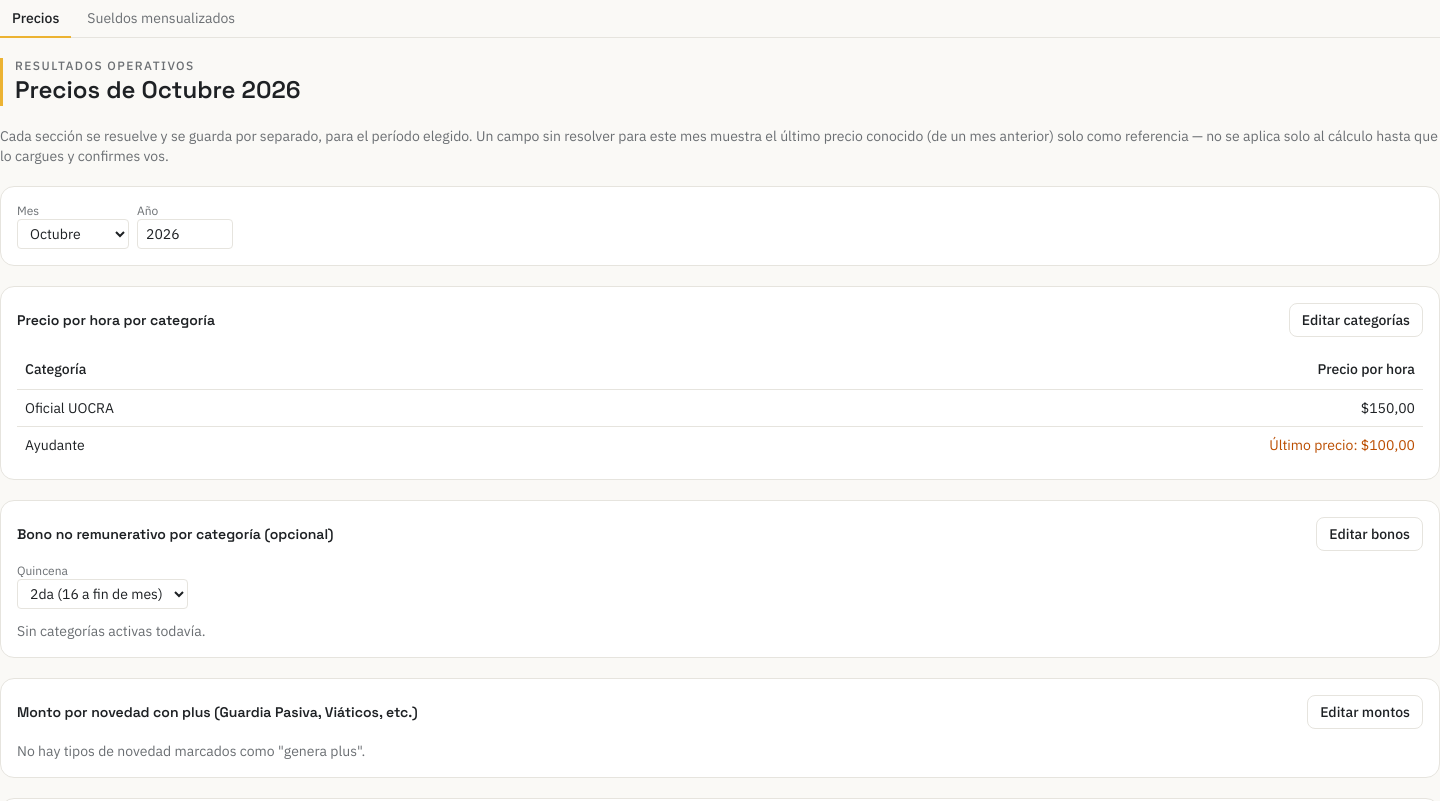
TarifasPage — Precios (ADR-018, secciones independientes) › "Aplicar a todas" el % calcula sobre el último precio, no sobre el input (que puede estar vacío)
Expected: the text "$150,00" is shown, x1=570 y1=389 x2=1423 y2=426
Click the button "Editar categorías" at (1356, 320), box x1=1289 y1=303 x2=1423 y2=337
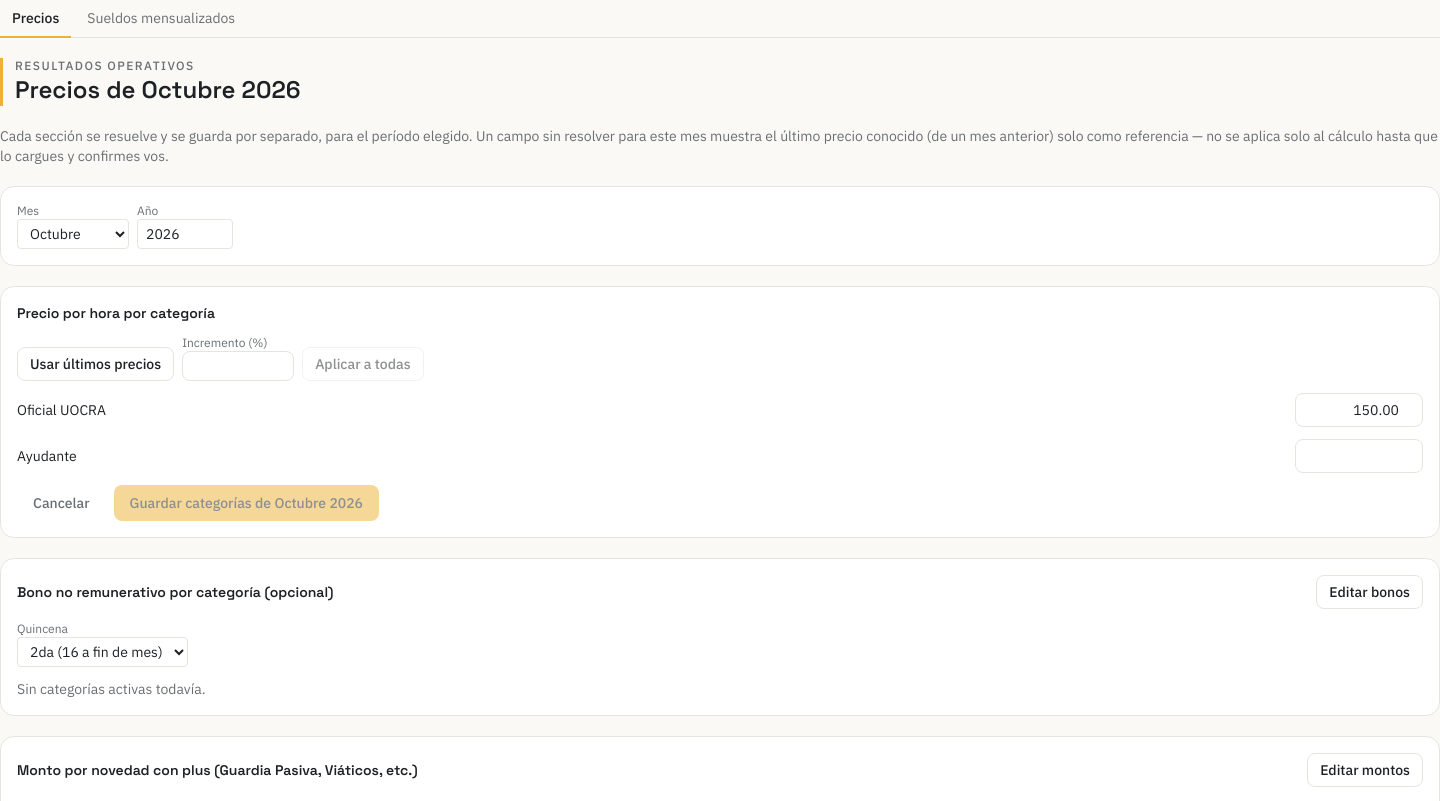
Expected: the number field labelled "Ayudante" is not empty, x1=1295 y1=439 x2=1423 y2=473
Type "10" into the number field named "porcentaje de incremento" at (238, 366), box x1=182 y1=351 x2=294 y2=381
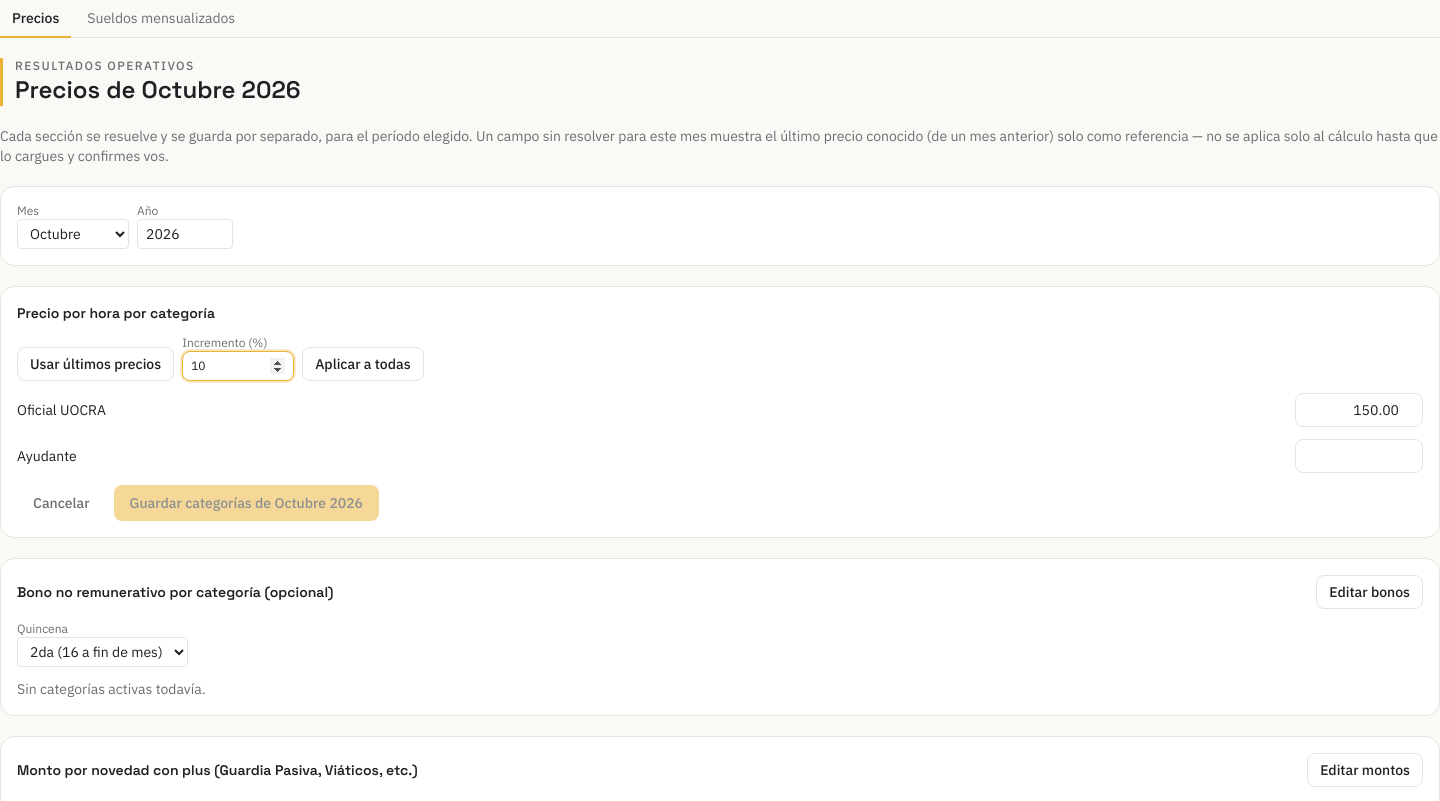
Click the button "Aplicar a todas" at (363, 364), box x1=302 y1=347 x2=424 y2=381
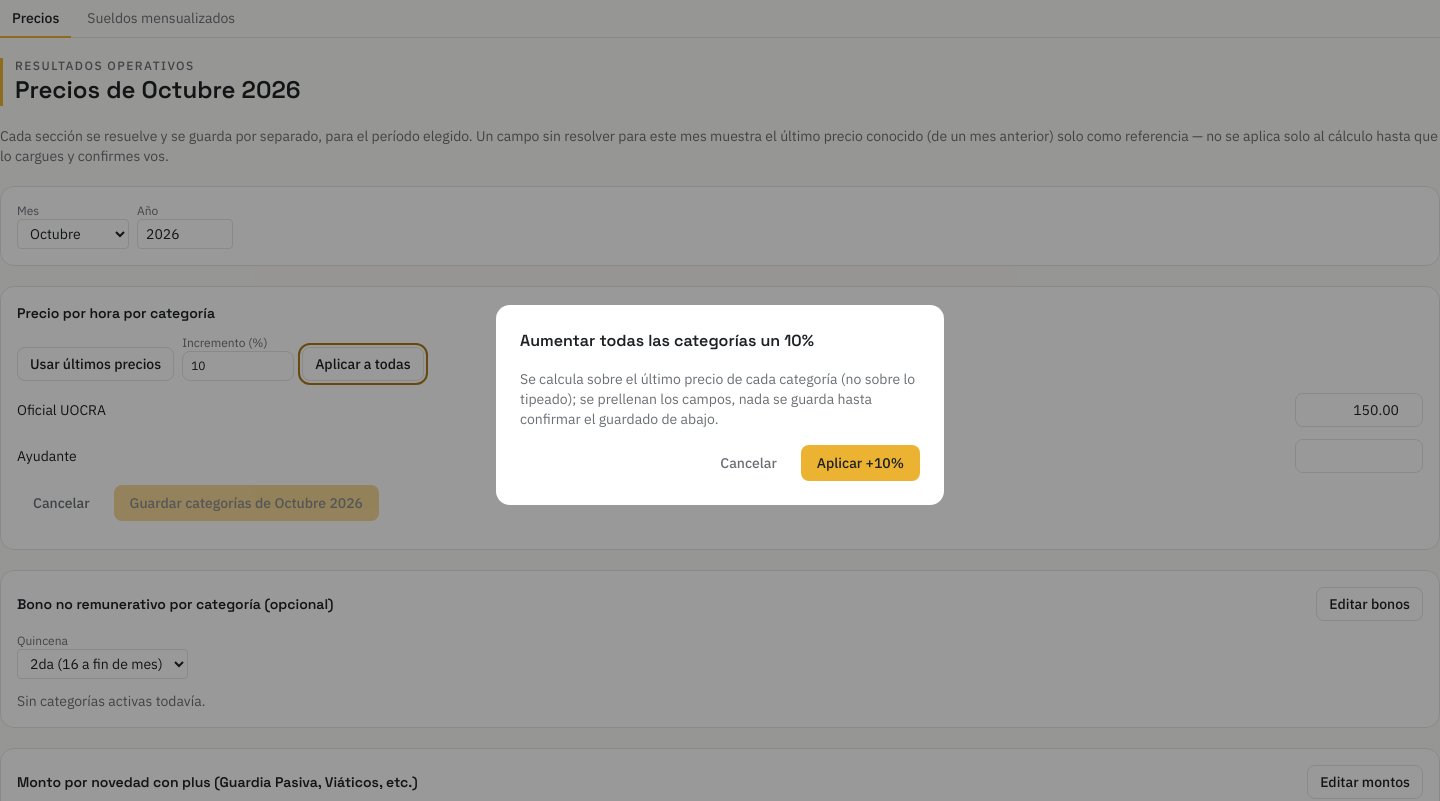
Click the button "Aplicar +10%" at (860, 463), box x1=801 y1=445 x2=920 y2=481
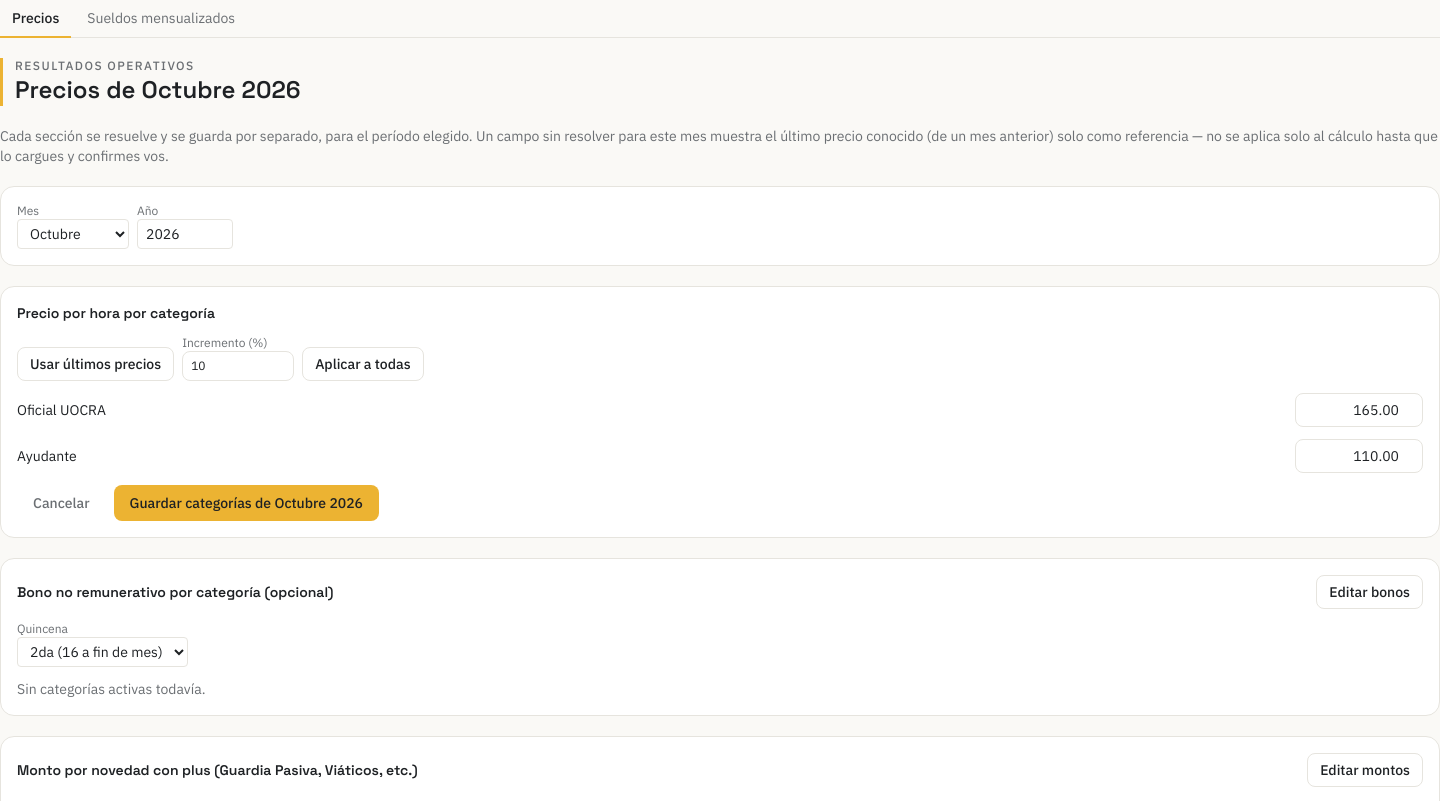
Expected: the number field labelled "Oficial UOCRA" holds "165", x1=1295 y1=393 x2=1423 y2=427
Expected: the number field labelled "Ayudante" holds "110", x1=1295 y1=439 x2=1423 y2=473
